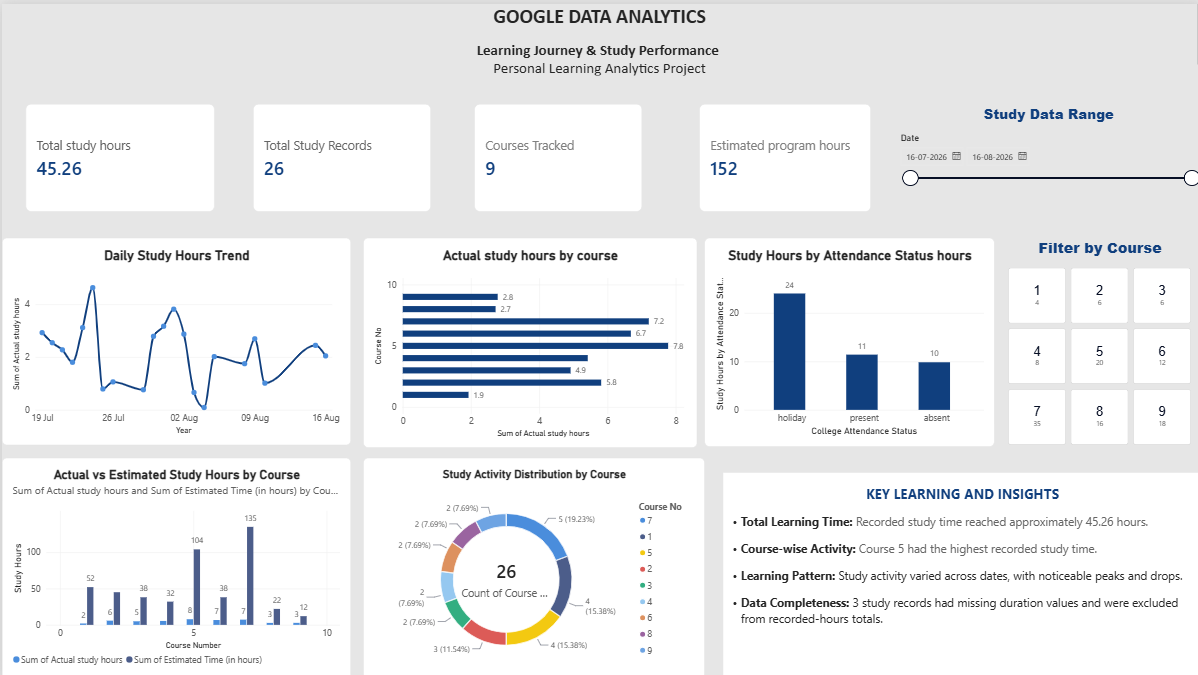

Layout of this report page (visuals, bound fields, positions):
{"tool":"powerbi","page":{"name":"Page 1","canvas":[1920,1080],"ordinal":0},"visuals":[{"type":"cardVisual","fields":{"Data":["Study Tracker.Total study hours"]},"box":[38,160,302,172],"z":0},{"type":"cardVisual","fields":{"Data":["Study Tracker.Total Study Records"]},"box":[402,160,284,172],"z":1000},{"type":"cardVisual","fields":{"Data":["Study Tracker.Courses Tracked"]},"box":[756,160,268,172],"z":2000},{"type":"cardVisual","fields":{"Data":["Study Tracker.Estimated program hours"]},"box":[1116,160,274,172],"z":3000},{"type":"lineChart","title":" Daily Study Hours Trend","fields":{"Category":["Study Tracker.Date.Variation.Date Hierarchy.Year","Study Tracker.Date.Variation.Date Hierarchy.Quarter","Study Tracker.Date.Variation.Date Hierarchy.Month","Study Tracker.Date.Variation.Date Hierarchy.Day"],"Y":["Sum(Study Tracker.Actual study hours)"]},"box":[0,374,558,332],"z":4000},{"type":"clusteredBarChart","title":"Actual study hours by course","fields":{"Category":["Study Tracker.Course No"],"Y":["Sum(Study Tracker.Actual study hours)"]},"box":[578,374,534,336],"z":5000},{"type":"clusteredColumnChart","title":"Study Hours by Attendance Status hours","fields":{"Category":["Study Tracker.College P/Ab"],"Y":["Sum(Study Tracker.Actual study hours)"]},"box":[1124,374,464,334],"z":6000},{"type":"clusteredColumnChart","title":"Actual vs Estimated Study Hours by Course","fields":{"Category":["Study Tracker.Course No"],"Y":["Sum(Study Tracker.Actual study hours)","Sum(Study Tracker.Estimated Time (in hours))"]},"box":[0,726,558,354],"z":7000},{"type":"donutChart","title":"Study Activity Distribution by Course","fields":{"Category":["Study Tracker.Course No"],"Y":["CountNonNull(Study Tracker.Course No)"]},"box":[578,726,546,354],"z":8000},{"type":"textbox","box":[0,871.5,194,183],"z":9000},{"type":"textbox","box":[0,0,1920,114],"z":10000},{"type":"advancedSlicerVisual","title":"Filter by Course","fields":{"Label":["Sum(Study Tracker.Course No)"],"Values":["Study Tracker.Course No"]},"box":[1610,374,294,332],"z":11000},{"type":"slicer","title":"Study Data Range","fields":{"Values":["Study Tracker.Date"]},"box":[1430,160,490,214],"z":12000},{"type":"textbox","box":[476,0,164,150],"z":13000},{"type":"textbox","box":[1154,750,766,330],"z":14000}]}

Visuals, with their boxes in screenshot pixels (x1, y1, x2, y2), scaled from the page's 1920x1080 canvas onto the 1198x675 screenshot:
cardVisual - Study Tracker.Total study hours: pyautogui.locateOnScreen(24, 100, 212, 208)
cardVisual - Study Tracker.Total Study Records: pyautogui.locateOnScreen(251, 100, 428, 208)
cardVisual - Study Tracker.Courses Tracked: pyautogui.locateOnScreen(472, 100, 639, 208)
cardVisual - Study Tracker.Estimated program hours: pyautogui.locateOnScreen(696, 100, 867, 208)
" Daily Study Hours Trend" lineChart: pyautogui.locateOnScreen(0, 234, 348, 441)
"Actual study hours by course" clusteredBarChart: pyautogui.locateOnScreen(361, 234, 694, 444)
"Study Hours by Attendance Status hours" clusteredColumnChart: pyautogui.locateOnScreen(701, 234, 991, 442)
"Actual vs Estimated Study Hours by Course" clusteredColumnChart: pyautogui.locateOnScreen(0, 454, 348, 674)
"Study Activity Distribution by Course" donutChart: pyautogui.locateOnScreen(361, 454, 701, 674)
textbox: pyautogui.locateOnScreen(0, 545, 121, 659)
textbox: pyautogui.locateOnScreen(0, 0, 1197, 71)
"Filter by Course" advancedSlicerVisual: pyautogui.locateOnScreen(1005, 234, 1188, 441)
"Study Data Range" slicer: pyautogui.locateOnScreen(892, 100, 1197, 234)
textbox: pyautogui.locateOnScreen(297, 0, 399, 94)
textbox: pyautogui.locateOnScreen(720, 469, 1197, 674)
